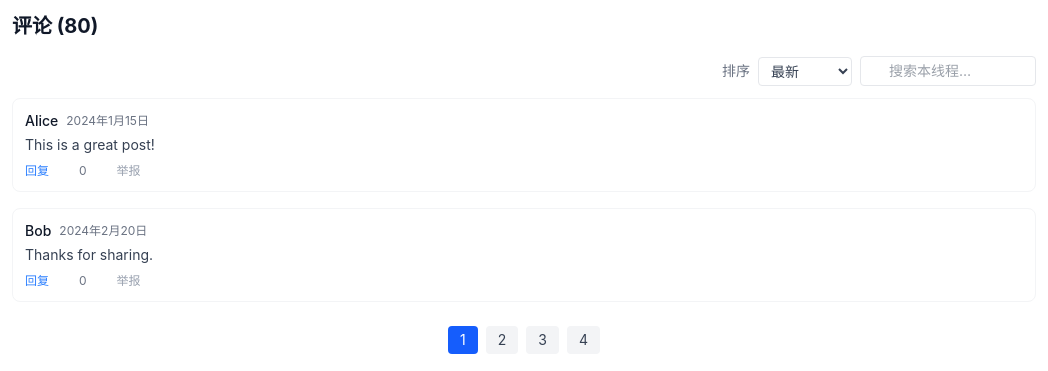
Test: CommentList › Stale-response race (deep-dive) › does not let a slow earlier page overwrite a newer one in the list
Click the button "3" at x=543, y=340, box [526,326,559,354]
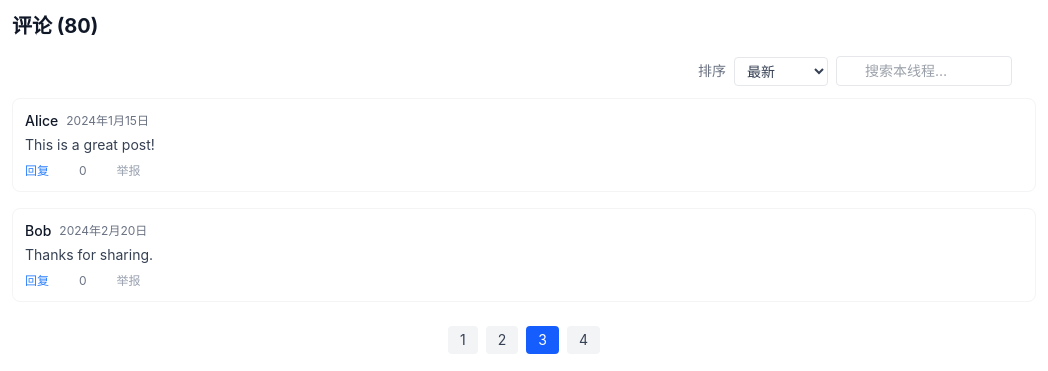
Click the button "4" at x=583, y=340, box [567,326,600,354]
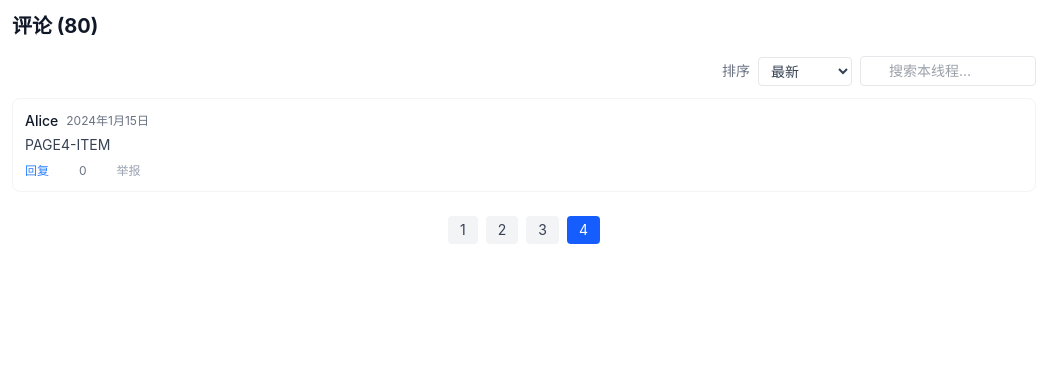
Expected: the text "PAGE4-ITEM" is shown, [25,136,110,153]
